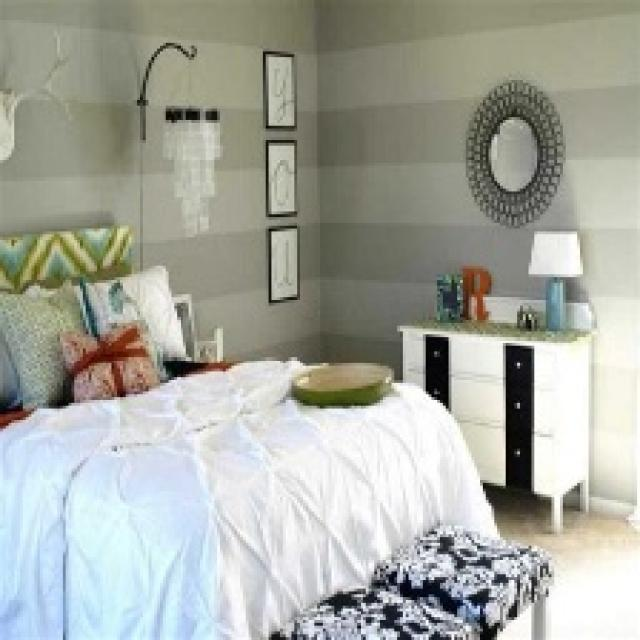bed: (4, 364, 464, 626)
lamp: (528, 226, 589, 331)
